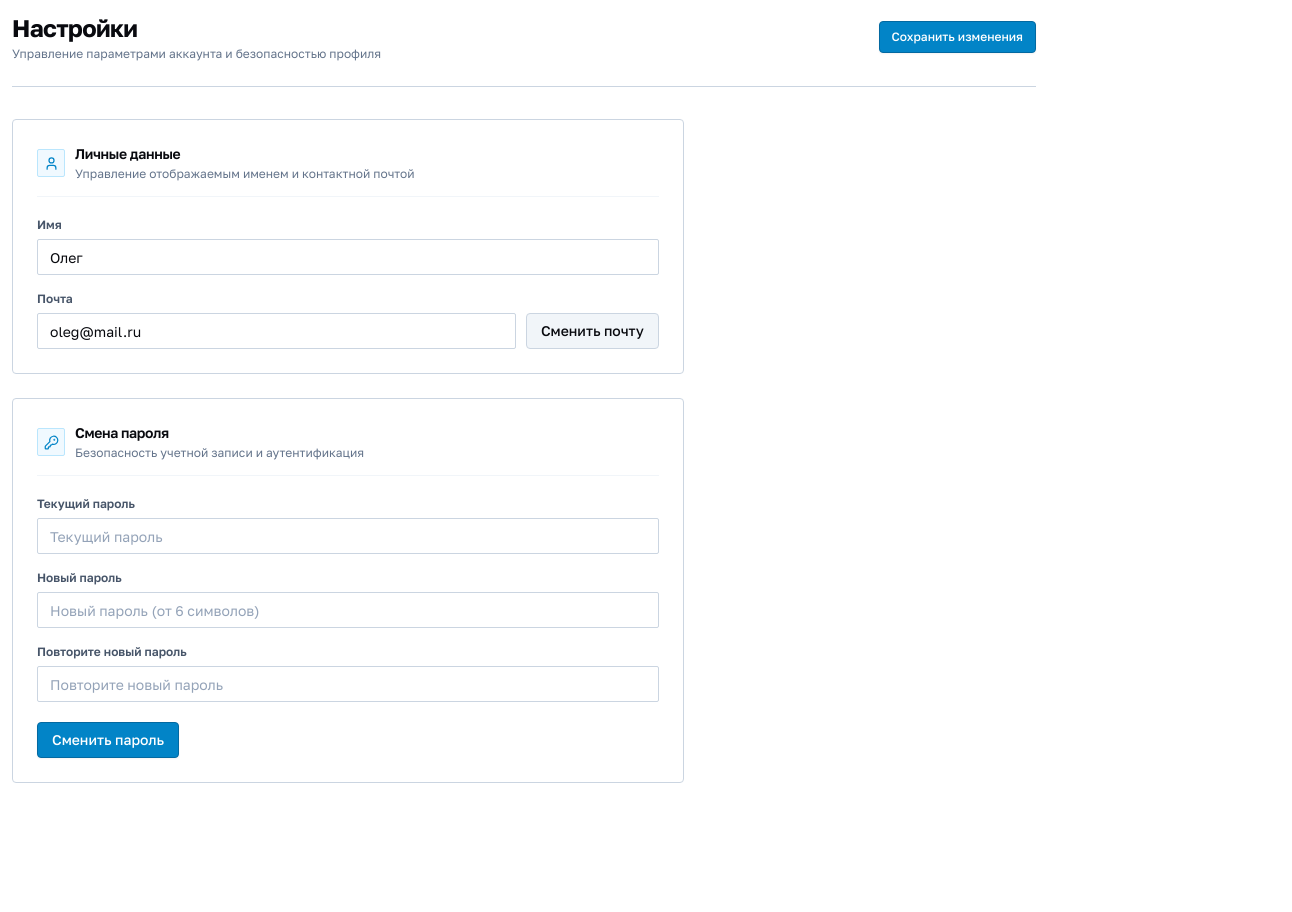
Test: ProfileSettingsPage › updates profile personal data successfully
Replace the text in the field labelled "Имя" with "Иван". click: (348, 257)
box: x1=37 y1=239 x2=659 y2=275
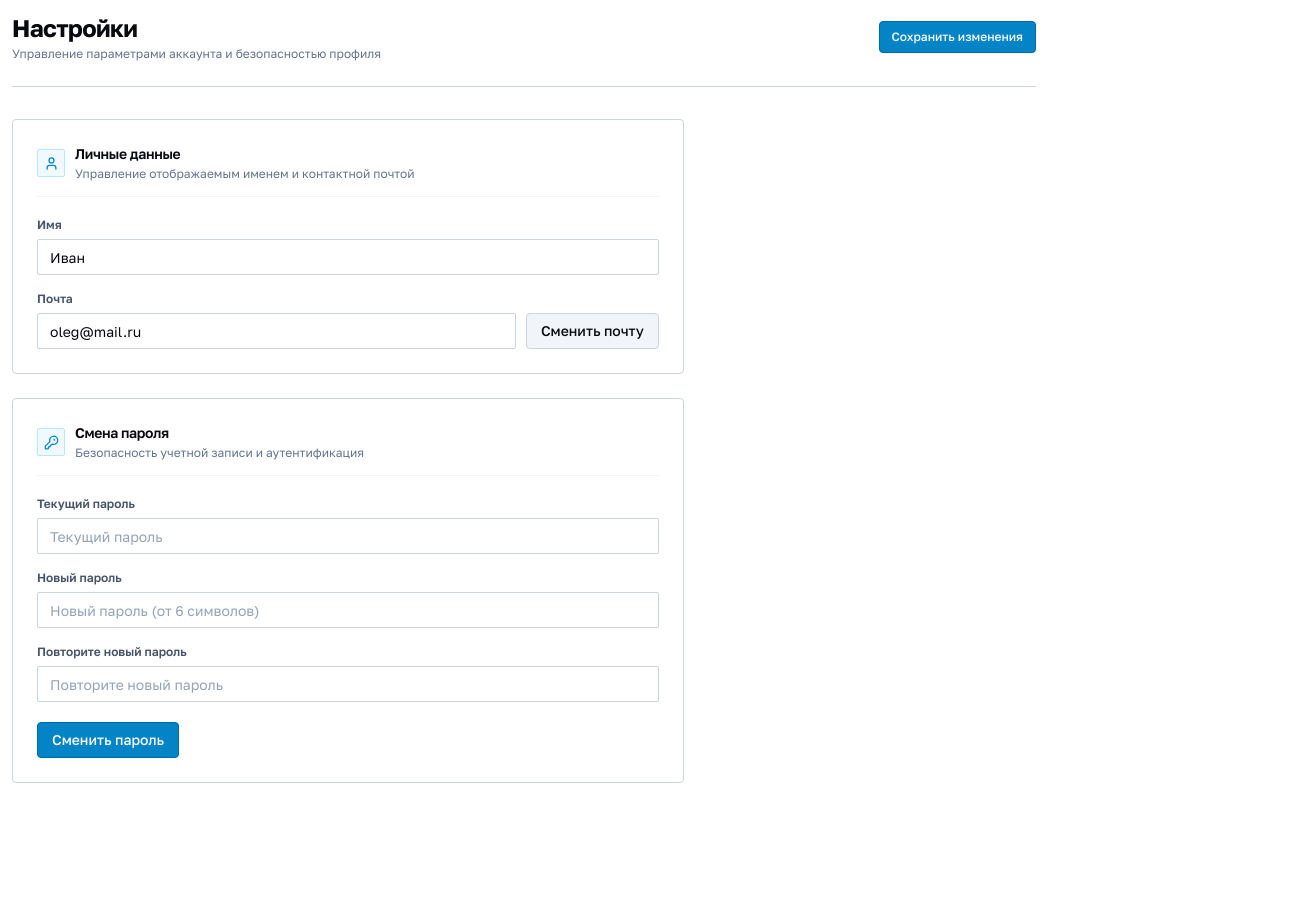
Replace the text in the field labelled "Почта" with "ivan@mail.ru". click: (276, 331)
box: x1=37 y1=313 x2=516 y2=349
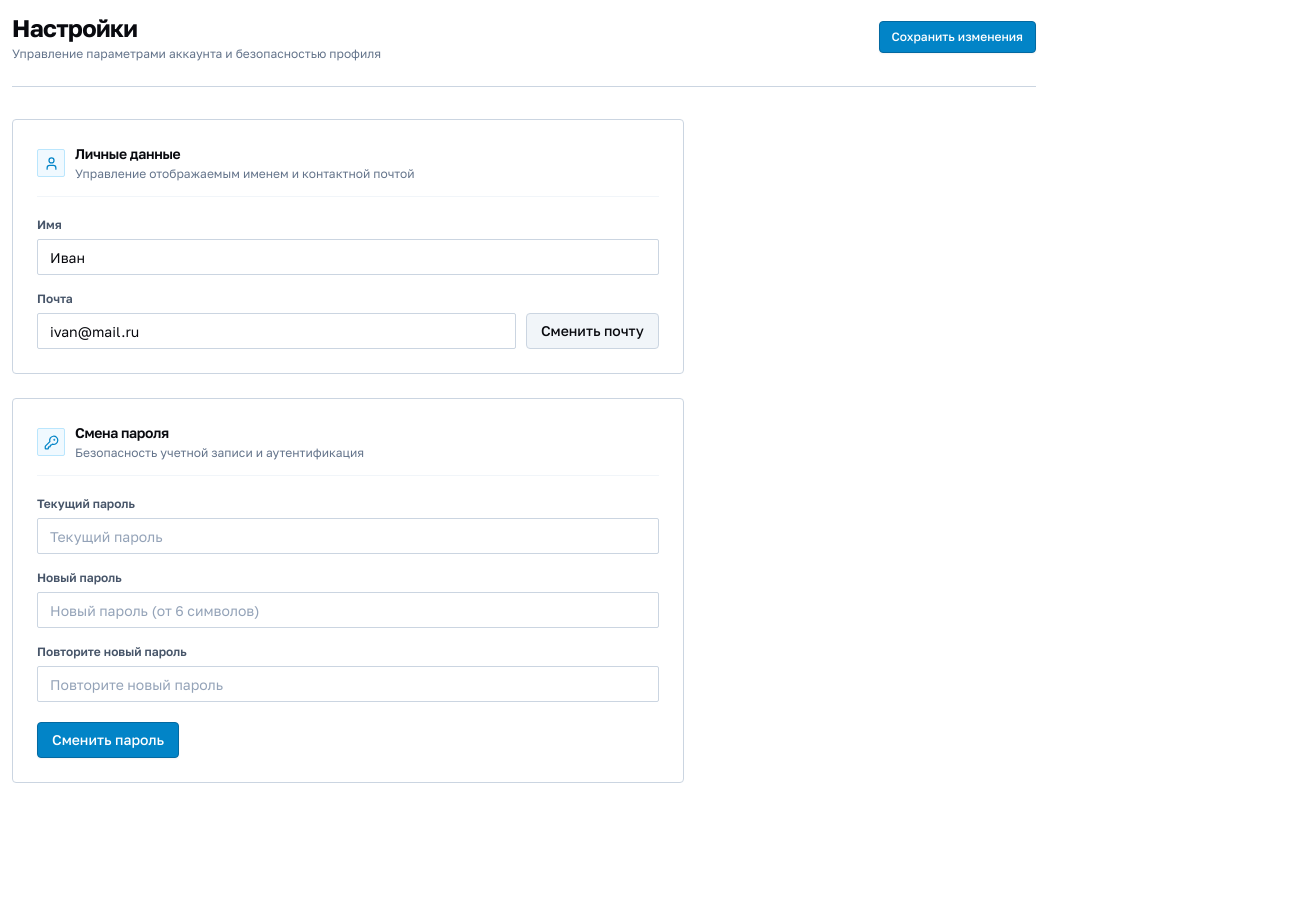
Click the button "Сохранить изменения". click: (957, 37)
box: x1=878 y1=21 x2=1036 y2=53
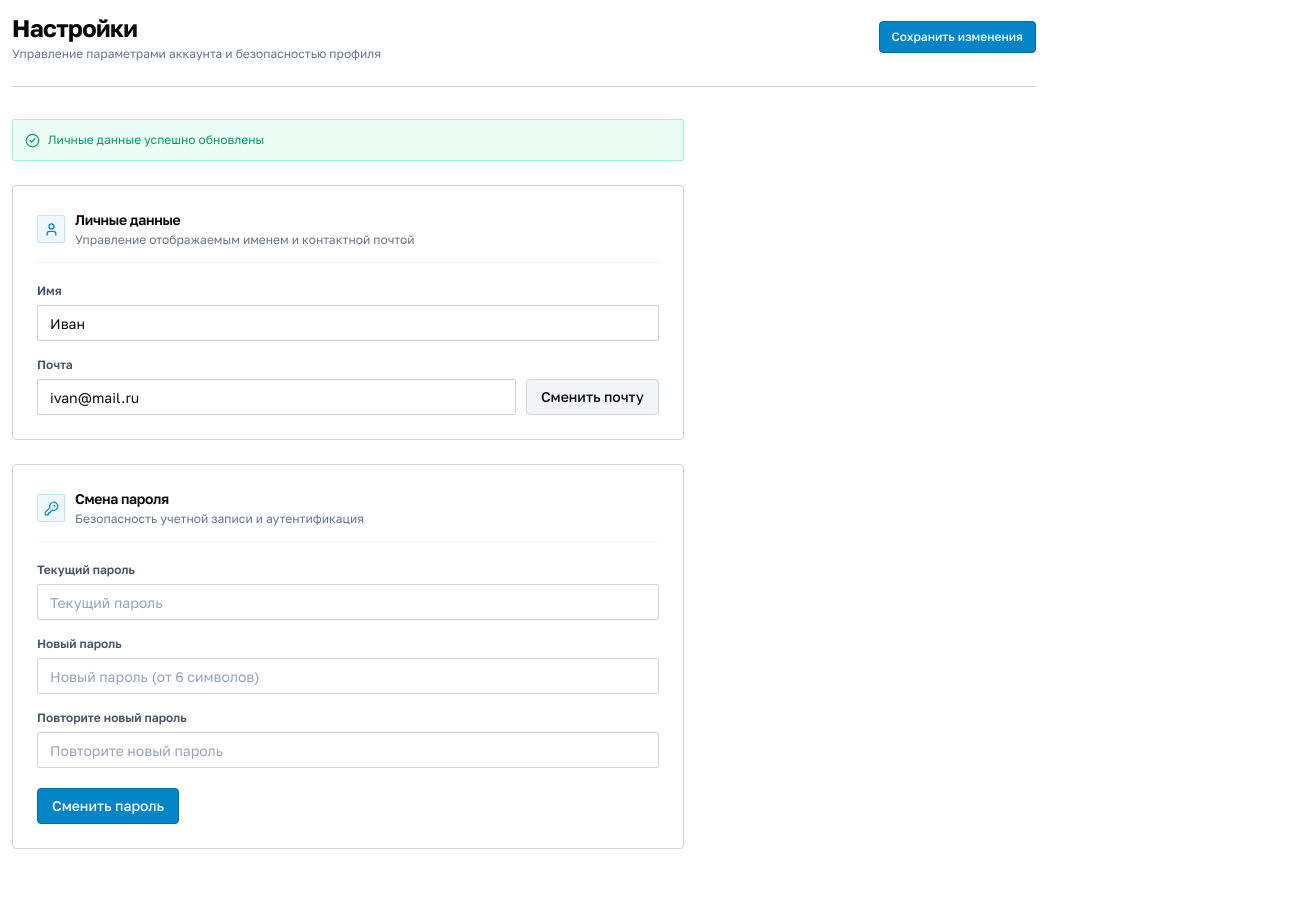
expect the text "Личные данные успешно обновлены" is shown: met, box x1=48 y1=132 x2=264 y2=148
